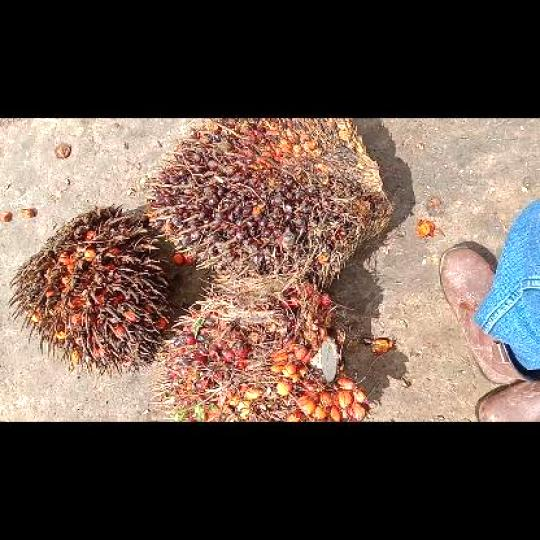kurang masak: (150, 117, 390, 282)
masak: (166, 284, 366, 420)
terlalu masak: (9, 204, 168, 370)
